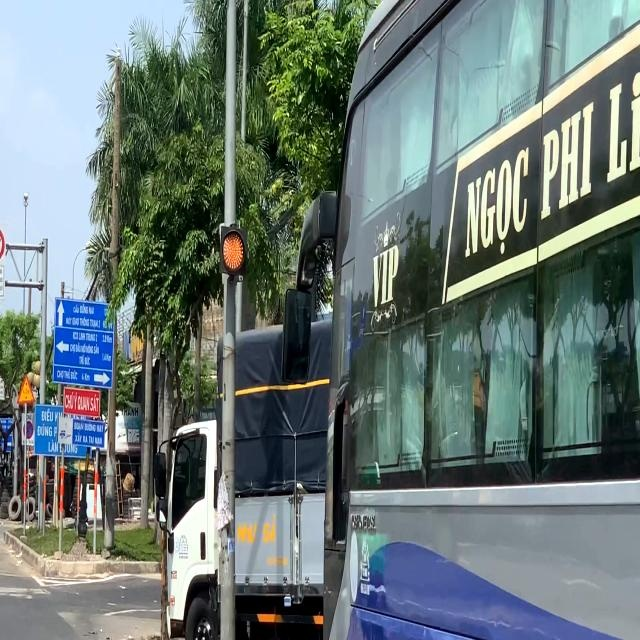bien_cam: (16, 374, 36, 406)
